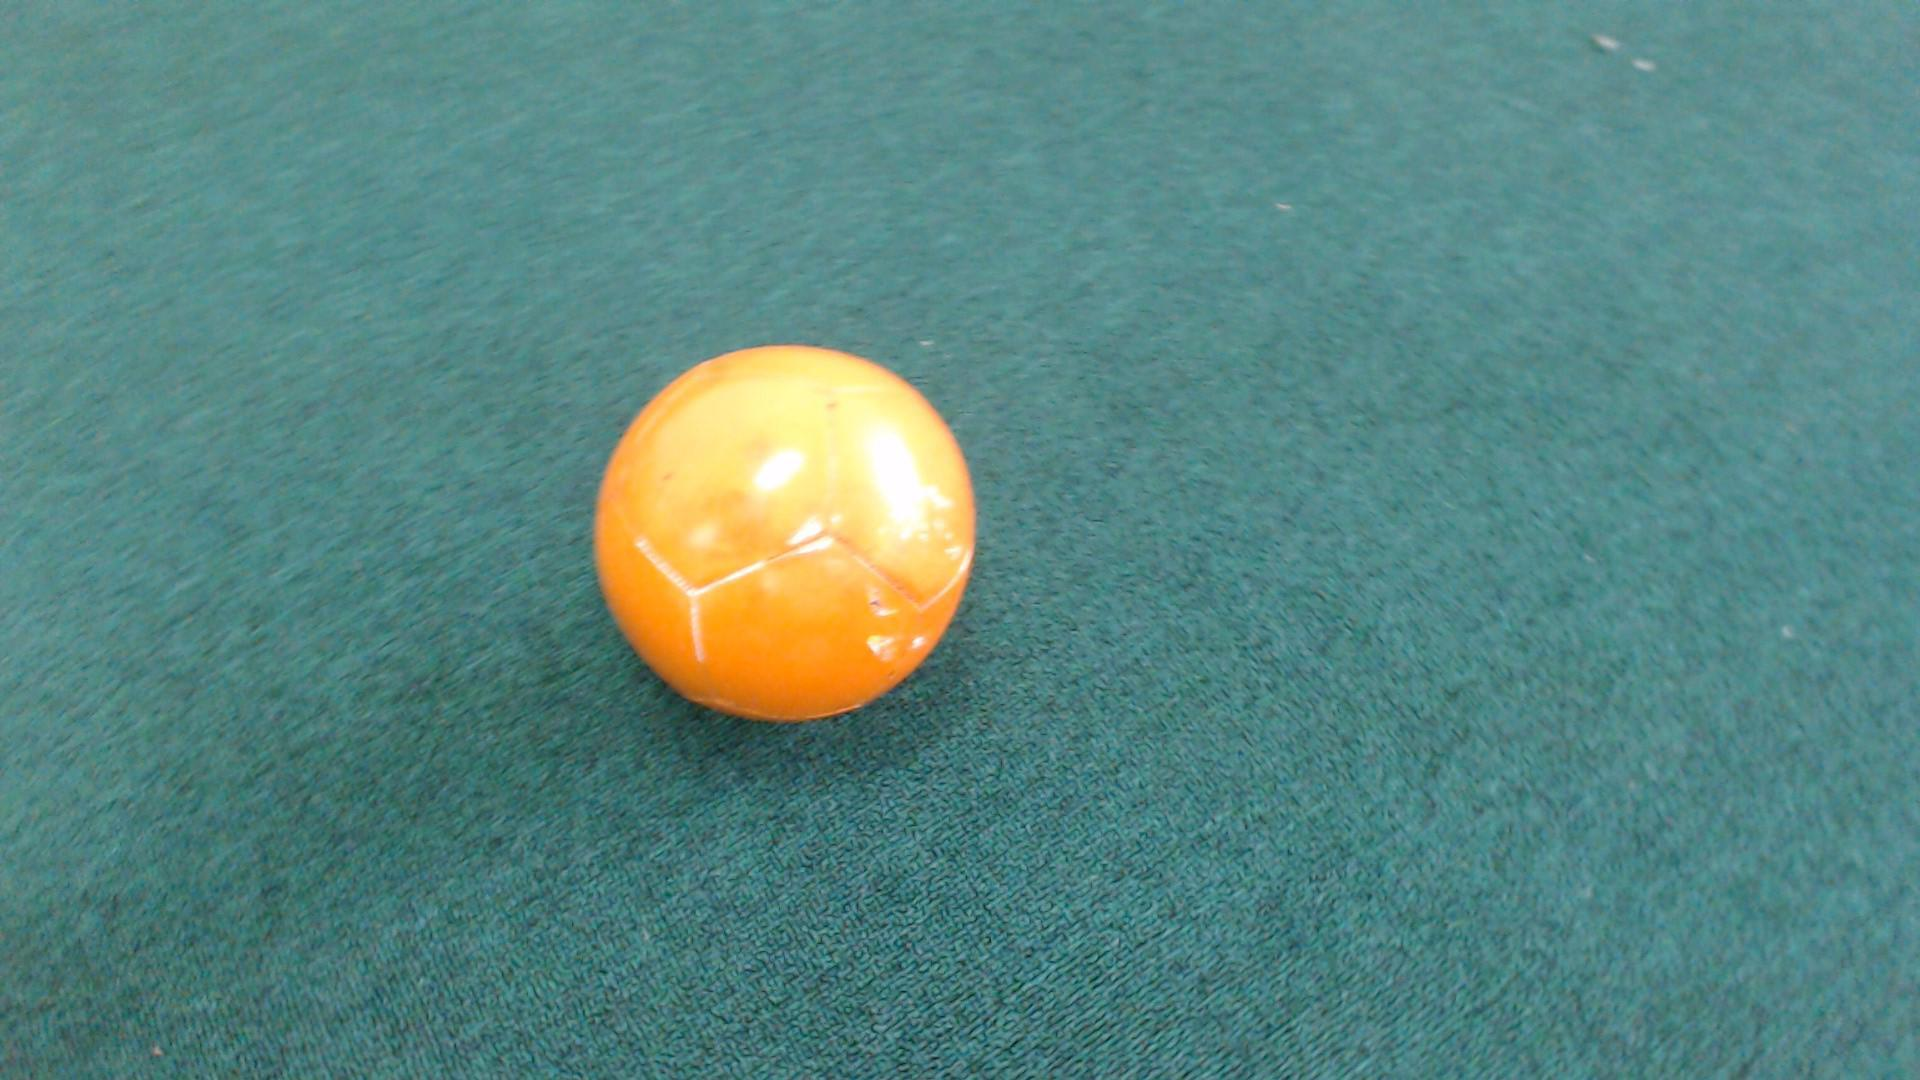bola: (543, 311, 1010, 746)
